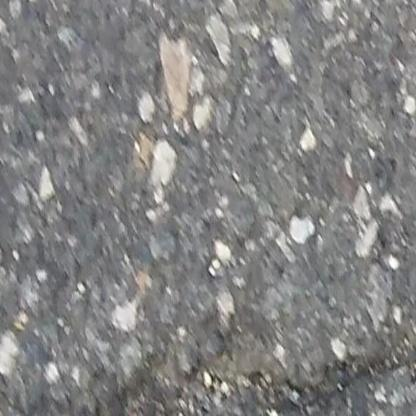Cracks: (69, 313, 416, 416)
